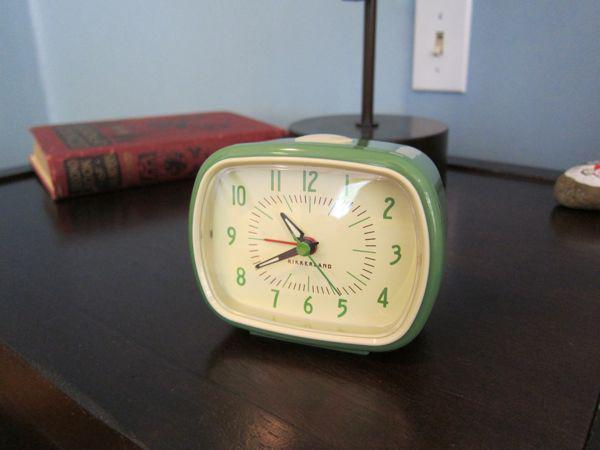clock: (175, 121, 452, 359)
